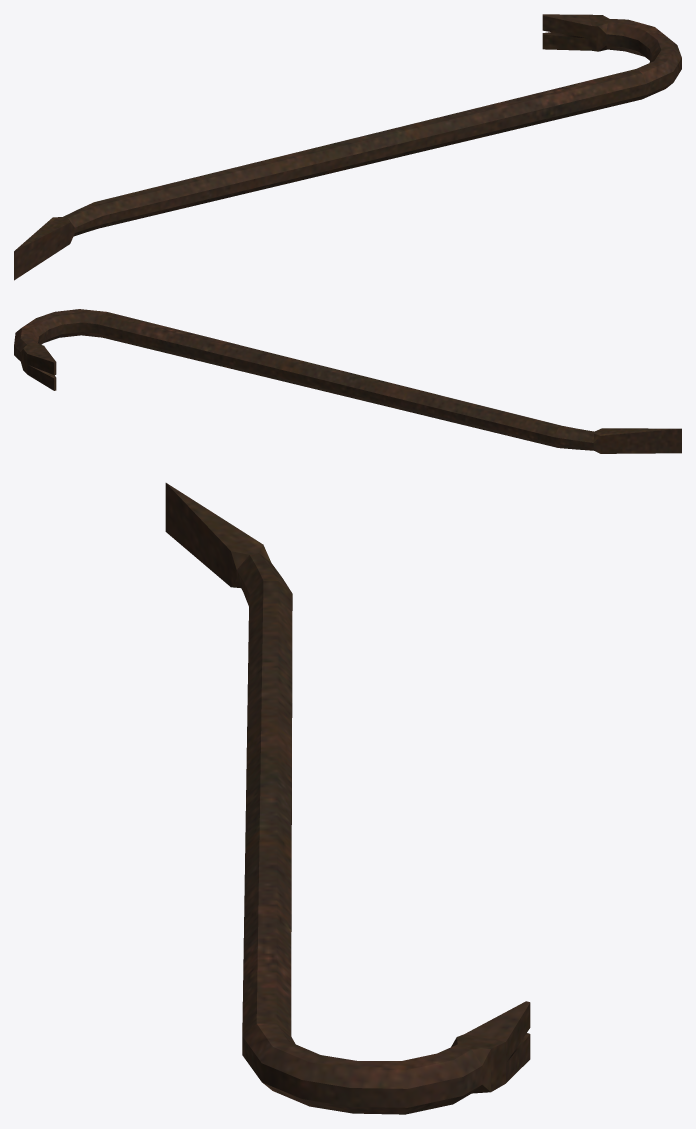
The model's file is rusty_crowbar_mx_1.obj.
The picture shows the model from 3 angles, top to bottom: view 1: azimuth 30°, elevation 25°; view 2: azimuth 150°, elevation 25°; view 3: azimuth 270°, elevation 25°; orthographic projection. The views are drawn at different scales.
Visible parts, largest first — view 1: rusty_crowbar_mx_1; view 2: rusty_crowbar_mx_1; view 3: rusty_crowbar_mx_1.
Part boxes in pixels (x1,y1,x2,y2): rusty_crowbar_mx_1: (14, 14, 681, 280); rusty_crowbar_mx_1: (14, 309, 681, 453); rusty_crowbar_mx_1: (165, 483, 530, 1114).
Bounding box in the file's own units: 1 × 0.045 × 0.2615.
